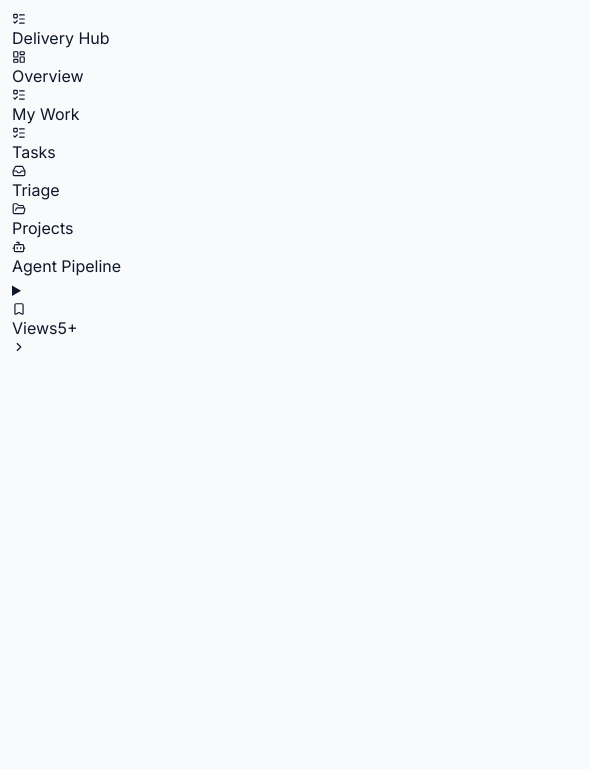
Test: AppSidebar › opens a bounded, searchable saved-view browser
Step 1. Click the text "Views" → (35, 328), box [12,318,58,338]
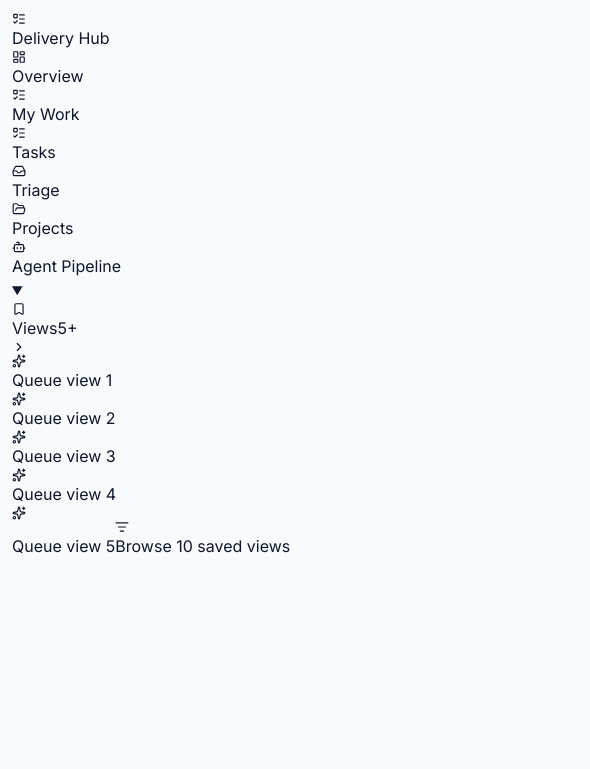
Expected: the link "Queue view 6" is not shown
Expected: the text named "10 saved views" reads "5+", [58,318,78,338]
Step 2. Click the button "Browse 10 saved views" → (203, 539), box [115,520,290,558]
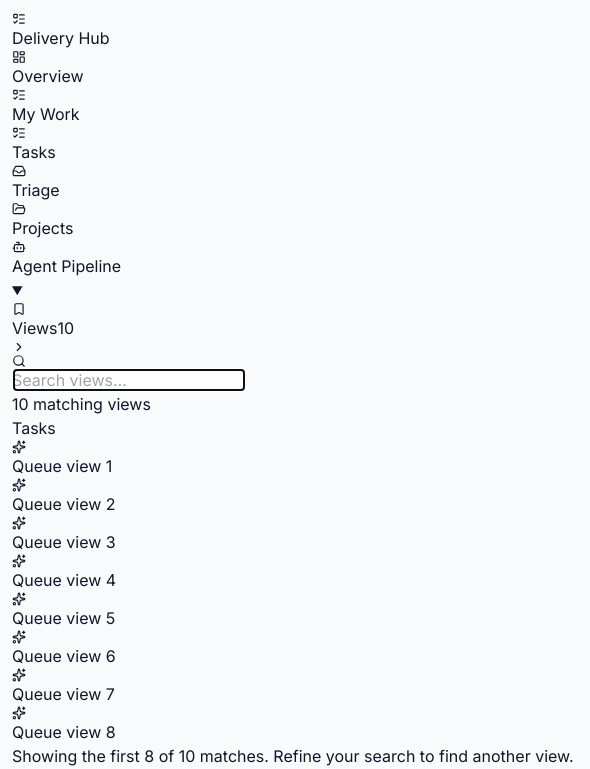
Result: the heading "Tasks" is shown at [12,418,56,438]
Result: the link "Queue view 8" is shown at [12,706,116,742]
Result: the text "Showing the first 8 of 10 matches" is shown at [12,746,574,766]
Step 3. Type "10" into the search field named "Search saved views" → (129, 380), box [12,368,246,392]
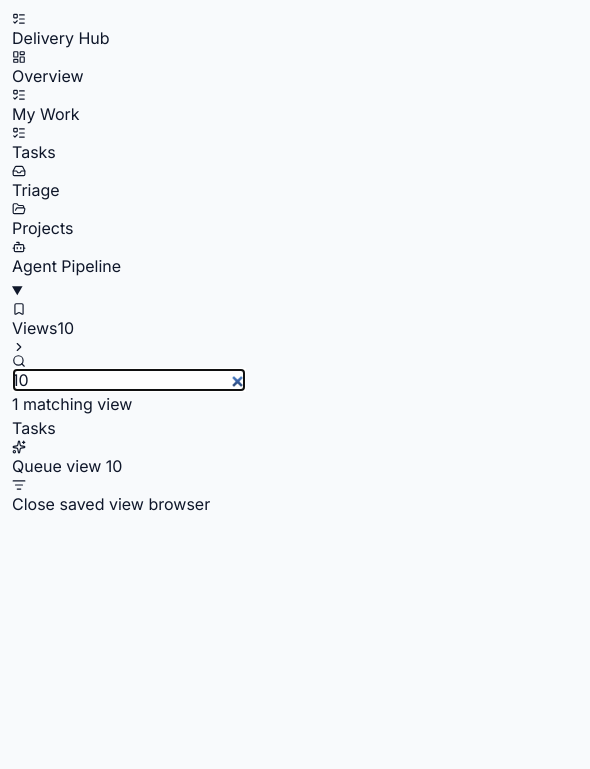
Result: the button "Close saved view browser" is expanded at [12,478,210,516]
Result: the link "Queue view 10" is shown at [12,440,122,476]
Result: the link "Queue view 8" is gone
